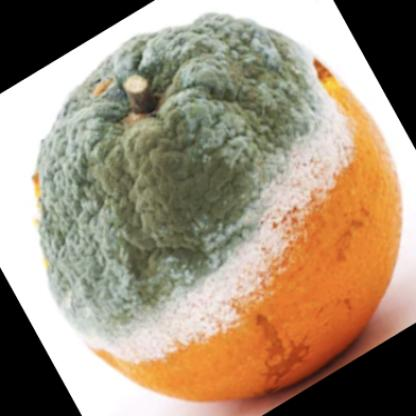rotten: (36, 16, 403, 399)
